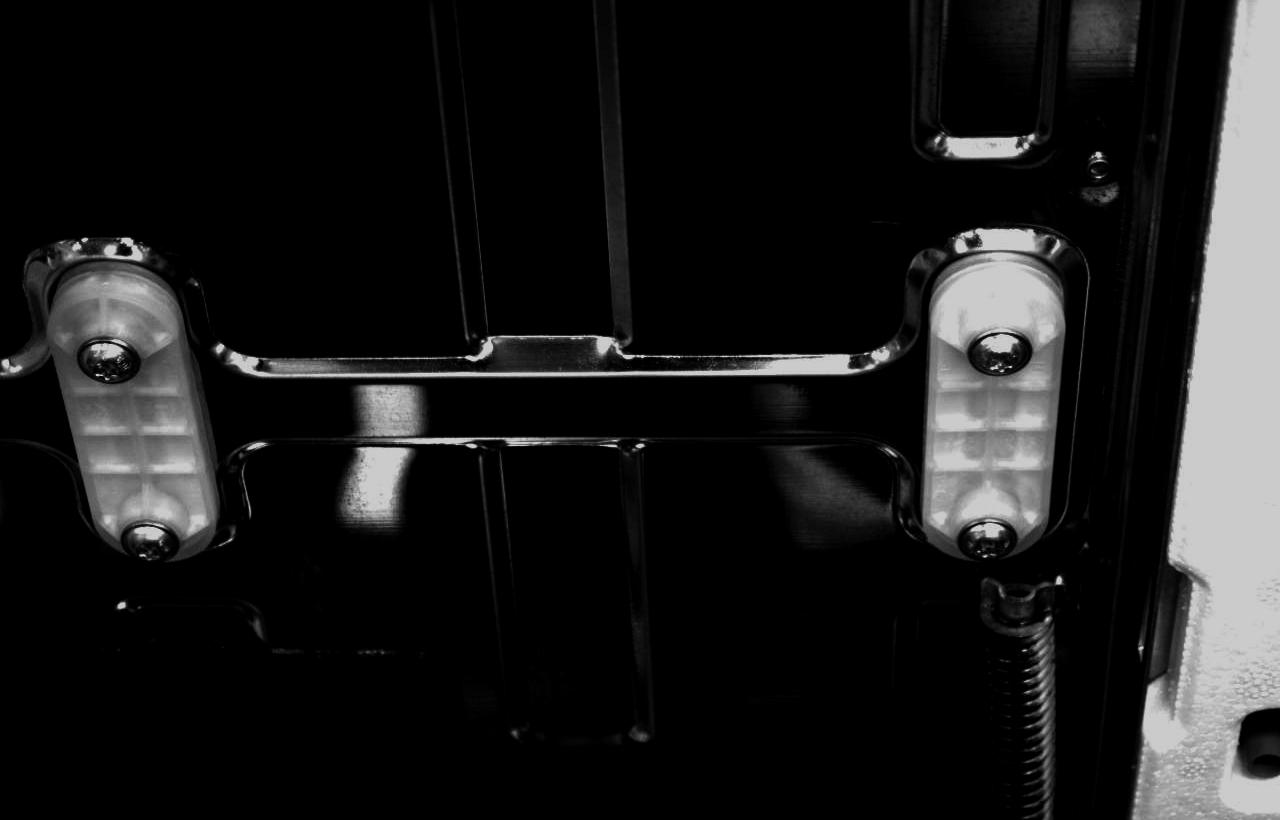vida-ok: (71, 325, 143, 392), (966, 322, 1033, 389), (953, 508, 1019, 567), (114, 511, 180, 569)
